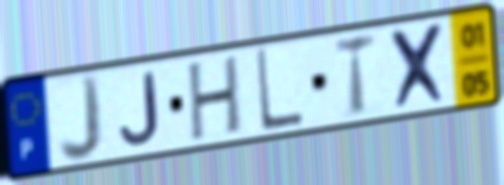H: (187, 51, 244, 146)
J: (56, 73, 105, 165), (117, 69, 163, 148)
L: (252, 46, 306, 136)
T: (332, 29, 379, 120)
X: (387, 19, 453, 114)
